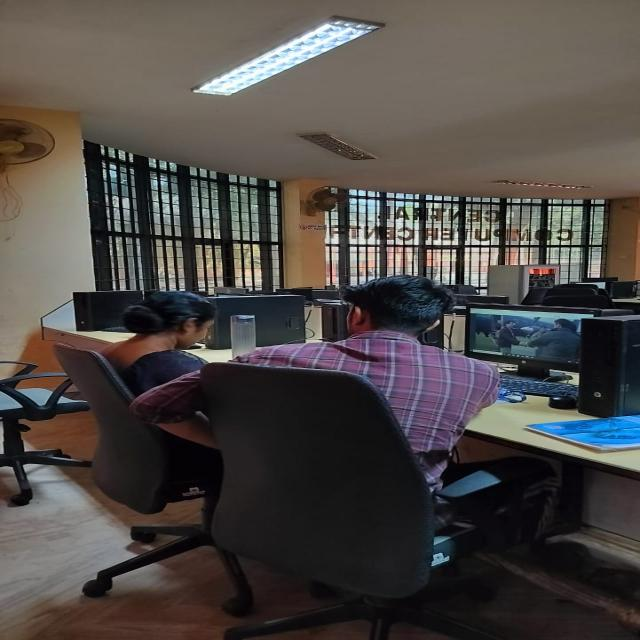chair ahead at: (166, 360, 550, 616)
